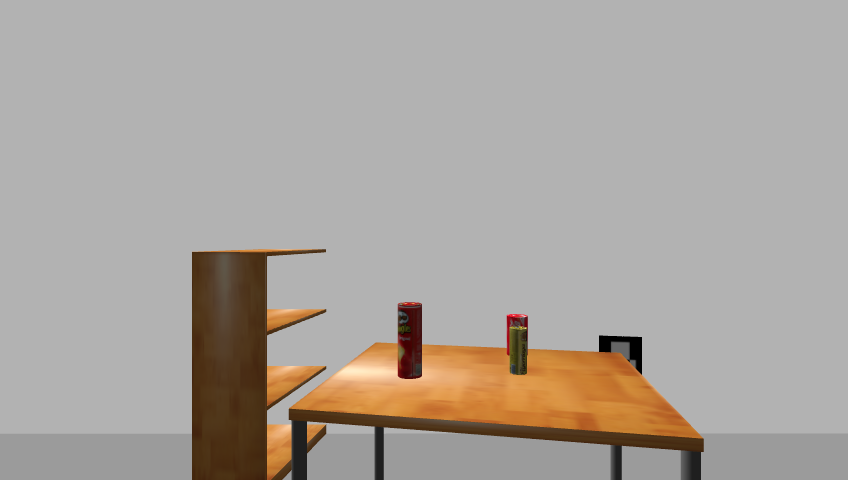aruco marker: (594, 333, 647, 378)
biscuits pack: (511, 327, 529, 377)
bookshelf: (187, 247, 333, 480)
coke can: (505, 314, 531, 357)
dinner table: (284, 342, 711, 479)
pringles can: (396, 302, 425, 380)
